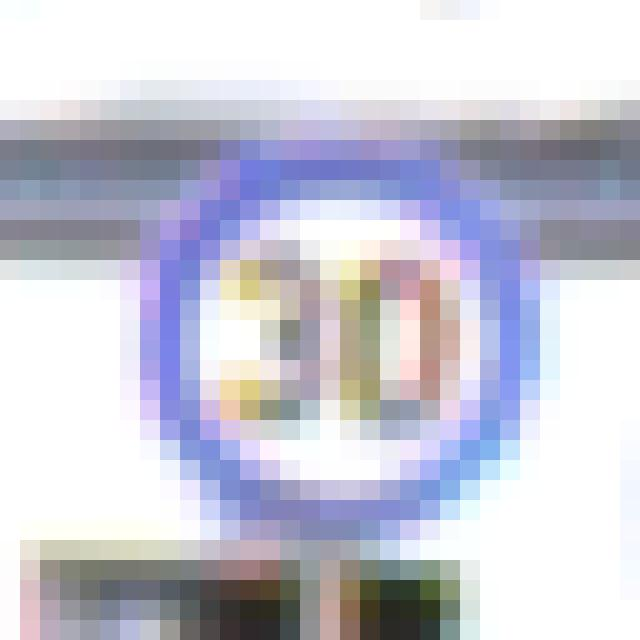SPEED LIMIT 30: (186, 194, 504, 506)
